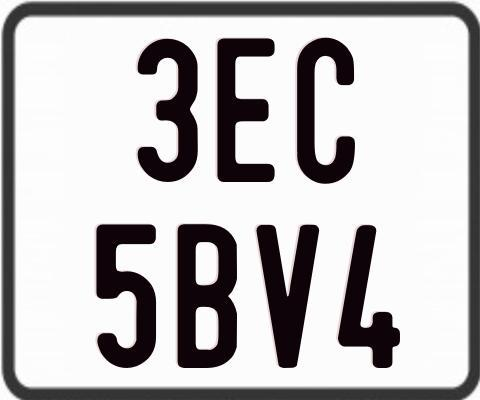3: (136, 36, 201, 179)
4: (335, 222, 401, 366)
5: (95, 221, 159, 367)
B: (175, 222, 239, 370)
C: (297, 37, 359, 185)
E: (217, 37, 281, 187)
V: (256, 224, 325, 370)
